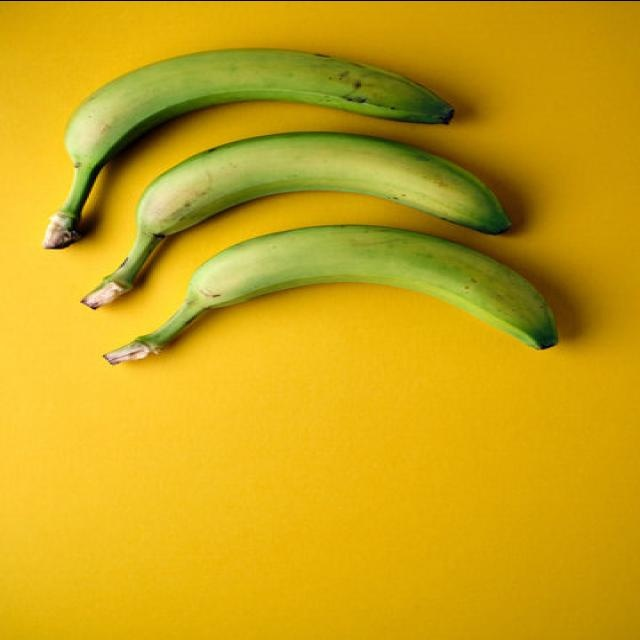agrume: (37, 43, 459, 249), (75, 128, 513, 308), (100, 222, 564, 366)
